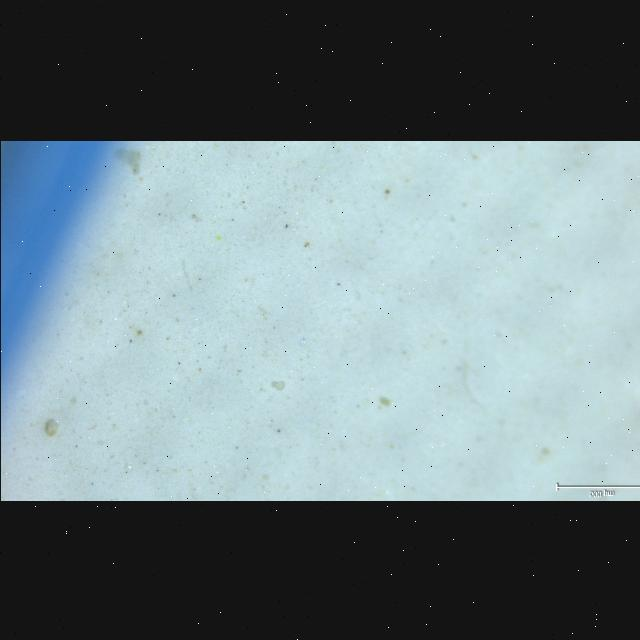Fibre: (180, 258, 191, 290)
Fragment: (113, 147, 140, 174), (44, 418, 57, 435)
